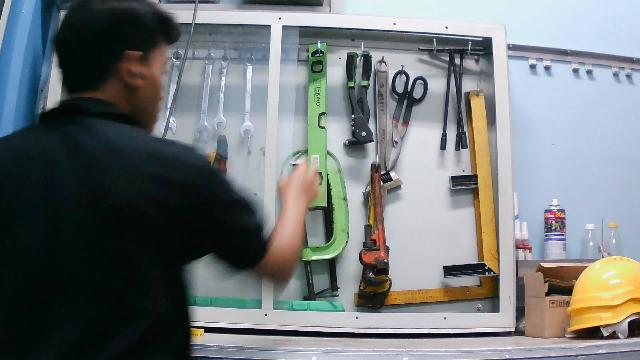water_pass: (301, 42, 332, 212)
